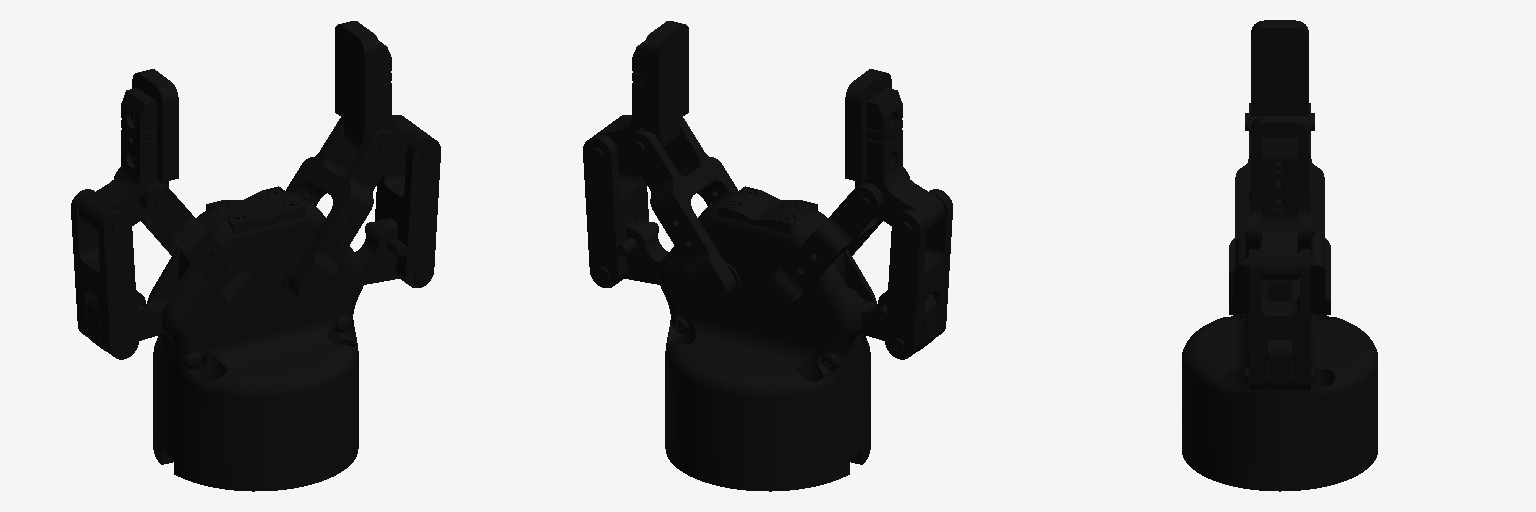
URDF robot description (robotiq_arg85_description):
<robot name="robotiq_arg85_description">
  <link name="robotiq_85_base_link">
    <inertial>
      <origin xyz="0.00021987 -2.3546E-10 0.030163" rpy="0 0 0" />
      <mass value="0.30915" />
      <inertia ixx="0.00028972" ixy="-5.7879E-10" ixz="-1.8543E-06" iyy="0.00030737" iyz="1.682E-12" izz="0.00019914" />
    </inertial>
    <visual name="robotiq_85_base_link_visual">
      <origin xyz="0 0 0" rpy="0 0 0" />
      <geometry>
        <mesh filename="package://robotiq_arg85_description/meshes/robotiq_85_base_link_fine.obj" />
      </geometry>
      <material name="">
        <color rgba="0.1 0.1 0.1 1" />
      </material>
    </visual>
    <collision name="robotiq_85_base_link_collision">
      <geometry>
	    <box size="0.086887 0.077000 0.102888"/> 
      </geometry>
		<origin xyz = "0.0 1.7427101428602043e-12 0.047443750551989516" rpy="0 0 0" />
    </collision>
  </link>
  <link name="left_outer_knuckle">
    <inertial>
      <origin xyz="0.0178331863169983 3.68915177224286E-11 0.0021442477325704" rpy="0 0 0" />
      <mass value="0.00684838849434396" />
      <inertia ixx="2.66832029033166E-07" ixy="1.66142314639824E-15" ixz="1.45945633322873E-07" iyy="1.3889233257419E-06" iyz="2.82951161241588E-15" izz="1.26603336914415E-06" />
    </inertial>
    <visual name="left_outer_knuckle_visual">
      <origin xyz="0 0 0" rpy="0 0 0" />
      <geometry>
        <mesh filename="package://robotiq_arg85_description/meshes/outer_knuckle_fine.obj" />
      </geometry>
      <material name="">
        <color rgba="0.1 0.1 0.1 1" />
      </material>
    </visual>
    <collision name="left_outer_knuckle_collision">
      <geometry>
	    <box size="0.047772 0.026000 0.024426"/> 
      </geometry>
		<origin xyz = "0.015403199009290235 5.312399825596614e-13 0.0033105993640952496" rpy="0 0 0" />
    </collision>
  </link>
  <joint name="finger_joint" type="fixed">
    <origin xyz="0.0306011444260539 0 0.0627920162695395" rpy="0 0 0" />
    <parent link="robotiq_85_base_link" />
    <child link="left_outer_knuckle" />
    <axis xyz="0 -1 0" />
    <!-- <limit lower="0" upper="0.725" velocity="2.0" effort="1000" /> -->
  </joint>
  <link name="left_outer_finger">
    <inertial>
      <origin xyz="0.00131451599174296 2.88942057994543E-15 0.0215404163180413" rpy="0 0 0" />
      <mass value="0.0273093985570947" />
      <inertia ixx="8.51629628283022E-06" ixy="2.58174336207405E-19" ixz="3.83829504344079E-07" iyy="6.9133328065108E-06" iyz="-7.58589926143789E-19" izz="2.25006832221981E-06" />
    </inertial>
    <visual name="left_outer_finger_visual">
      <origin xyz="0 0 0" rpy="0 0 0" />
      <geometry>
        <mesh filename="package://robotiq_arg85_description/meshes/outer_finger_fine.obj" />
      </geometry>
      <material name="">
        <color rgba="0.1 0.1 0.1 1" />
      </material>
    </visual>
    <collision name="left_outer_finger_collision">
      <geometry>
	    <box size="0.016872 0.029000 0.061409"/> 
      </geometry>
		<origin xyz = "0.0014472736505653163 1.0560007729365495e-12 0.023715879300101127" rpy="0 0 0" />
    </collision>
  </link>
  <joint name="left_outer_finger_joint" type="fixed">
    <origin xyz="0.0316910442266543 0 -0.00193396375724605" rpy="0 0 0" />
    <parent link="left_outer_knuckle" />
    <child link="left_outer_finger" />
    <axis xyz="0 -1 0" />
  </joint>
  <link name="left_inner_knuckle">
    <inertial>
      <origin xyz="0.017097546626628 -3.93808524389535E-10 0.0224918438201868" rpy="0 0 0" />
      <mass value="0.0110930853895903" />
      <inertia ixx="4.23392770691541E-06" ixy="5.748978936968E-15" ixz="1.78855677119788E-06" iyy="3.96548790524392E-06" iyz="1.05464666369669E-14" izz="3.24068002883007E-06" />
    </inertial>
    <visual name="left_inner_knuckle_visual">
      <origin xyz="0 0 0" rpy="0 0 0" />
      <geometry>
        <mesh filename="package://robotiq_arg85_description/meshes/inner_knuckle_fine.obj" />
      </geometry>
      <material name="">
        <color rgba="0.1 0.1 0.1 1" />
      </material>
    </visual>
    <!-- <collision name="left_inner_knuckle_collision">
      <geometry>
	    <box size="0.048571 0.041000 0.059401"/> 
      </geometry>
		<origin xyz = "0.01729265483893256 7.060983742146476e-13 0.02274850918763884" rpy="0 0 0" />
    </collision> -->
  </link>
  <joint name="left_inner_knuckle_joint" type="fixed">
    <origin xyz="0.0127000000001501 0 0.0693074999999639" rpy="0 0 0" />
    <parent link="robotiq_85_base_link" />
    <child link="left_inner_knuckle" />
    <axis xyz="0 -1 0" />
    <!-- <limit lower="0" upper="0.8757" velocity="2.0" effort="1000" /> -->
    <!-- <mimic joint="finger_joint" multiplier="1" offset="0" /> -->
  </joint>
  <link name="left_inner_finger">
    <inertial>
      <origin xyz="0.0060275613594574 -6.29183141465421E-15 0.00669925693133241" rpy="0 0 0" />
      <mass value="0.00724255346165745" />
      <inertia ixx="1.47824274053603E-06" ixy="-3.94884463570303E-19" ixz="-3.45268847648622E-07" iyy="1.70064480838395E-06" iyz="3.5059838910097E-19" izz="4.77151336838364E-07" />
    </inertial>
    <visual name="left_inner_finger_visual">
      <origin xyz="0 0 0" rpy="0 0 0" />
      <geometry>
        <mesh filename="package://robotiq_arg85_description/meshes/inner_finger_fine.obj" />
      </geometry>
      <material name="">
        <color rgba="0.1 0.1 0.1 1" />
      </material>
    </visual>
    <collision name="left_inner_finger_collision">
      <geometry>
	    <box size="0.033703 0.024000 0.058515"/> 
      </geometry>
		<origin xyz = "0.008049757219381438 -2.3713496444255355e-13 0.01574262650753895" rpy="0 0 0" />
    </collision>
  </link>
  <joint name="left_inner_finger_joint" type="fixed">
    <origin xyz="0.034585310861294 0 0.0454970193817975" rpy="0 0 0" />
    <parent link="left_inner_knuckle" />
    <child link="left_inner_finger" />
    <axis xyz="0 -1 0" />
    <!-- <limit lower="0" upper="0.8757" velocity="2.0" effort="1000" /> -->
    <!-- <mimic joint="finger_joint" multiplier="-1" offset="0" /> -->
  </joint>
  <link name="right_inner_knuckle">
    <inertial>
      <origin xyz="0.0168606186773776 3.93808471820465E-10 0.0226699950793434" rpy="0 0 0" />
      <mass value="0.0110930853895903" />
      <inertia ixx="4.27134775939882E-06" ixy="-8.53568456728898E-15" ixz="1.77774229944246E-06" iyy="3.96548790524392E-06" iyz="-8.45108024914164E-15" izz="3.20325997634666E-06" />
    </inertial>
    <visual name="right_inner_knuckle_visual">
      <origin xyz="0 0 0" rpy="0 0 0" />
      <geometry>
        <mesh filename="package://robotiq_arg85_description/meshes/inner_knuckle_fine.obj" />
      </geometry>
      <material name="">
        <color rgba="0.1 0.1 0.1 1" />
      </material>
    </visual>
    <!-- <collision name="right_inner_knuckle_collision">
      <geometry>
	    <box size="0.048571 0.041000 0.059401"/> 
      </geometry>
		<origin xyz = "0.01729265483893256 7.060983742146476e-13 0.02274850918763884" rpy="0 0 0" />
    </collision> -->
  </link>
  <joint name="right_inner_knuckle_joint" type="fixed">
    <origin xyz="-0.0126999999998499 0 0.0693075000000361" rpy="0 0 3.14159265358979" />
    <parent link="robotiq_85_base_link" />
    <child link="right_inner_knuckle" />
    <axis xyz="0 1 0" />
    <!-- <limit lower="0" upper="0.8757" velocity="2.0" effort="1000" /> -->
    <!-- <mimic joint="finger_joint" multiplier="-1" offset="0" /> -->
  </joint>
  <link name="right_inner_finger">
    <inertial>
      <origin xyz="0.00602756228812038 -6.47284509480176E-15 0.00669925609578108" rpy="0 0 0" />
      <mass value="0.00724255346165744" />
      <inertia ixx="1.47824283625957E-06" ixy="-3.95952064019123E-19" ixz="-3.45268708875543E-07" iyy="1.70064480838394E-06" iyz="3.55286507960029E-19" izz="4.77151241114822E-07" />
    </inertial>
    <visual name="right_inner_finger_visual">
      <origin xyz="0 0 0" rpy="0 0 0" />
      <geometry>
        <mesh filename="package://robotiq_arg85_description/meshes/inner_finger_fine.obj" />
      </geometry>
      <material name="">
        <color rgba="0.1 0.1 0.1 1" />
      </material>
    </visual>
    <collision name="right_inner_finger_collision">
      <geometry>
	    <box size="0.033703 0.024000 0.058515"/> 
      </geometry>
		<origin xyz = "0.008049757219381438 -2.3713496444255355e-13 0.01574262650753895" rpy="0 0 0" />
    </collision>
  </link>
  <joint name="right_inner_finger_joint" type="fixed">
    <origin xyz="0.0341060475457406 0 0.0458573878541688" rpy="0 0 0" />
    <parent link="right_inner_knuckle" />
    <child link="right_inner_finger" />
    <axis xyz="0 1 0" />
    <limit lower="0" upper="0.8757" velocity="2.0" effort="1000" />
    <!-- <mimic joint="finger_joint" multiplier="1" offset="0" /> -->
  </joint>
  <link name="right_outer_knuckle">
    <inertial>
      <origin xyz="0.0178097074051638 3.60493211424024E-11 0.00233123458346721" rpy="0 0 0" />
      <mass value="0.00684838849401352" />
      <inertia ixx="2.70004361573169E-07" ixy="1.59579467624491E-15" ixz="1.56396493788199E-07" iyy="1.38892332558312E-06" iyz="2.82357800318817E-15" izz="1.26286103637978E-06" />
    </inertial>
    <visual name="right_outer_knuckle_visual">
      <origin xyz="0 0 0" rpy="0 0 0" />
      <geometry>
        <mesh filename="package://robotiq_arg85_description/meshes/outer_knuckle_fine.obj" />
      </geometry>
      <material name="">
        <color rgba="0.1 0.1 0.1 1" />
      </material>
    </visual>
    <collision name="right_outer_knuckle_collision">
      <geometry>
	    <box size="0.047772 0.026000 0.024426"/> 
      </geometry>
		<origin xyz = "0.015403199009290235 5.312399825596614e-13 0.0033105993640952496" rpy="0 0 0" />
    </collision>
  </link>
  <joint name="right_outer_knuckle_joint" type="fixed">
    <origin xyz="-0.0306011444258893 0 0.0627920162695395" rpy="0 0 3.14159265358979" />
    <parent link="robotiq_85_base_link" />
    <child link="right_outer_knuckle" />
    <axis xyz="0 1 0" />
    <!-- <limit lower="0" upper="0.8757" velocity="2.0" effort="1000" /> -->
    <!-- <mimic joint="finger_joint" multiplier="-1" offset="0" /> -->
  </joint>
  <link name="right_outer_finger">
    <inertial>
      <origin xyz="0.00108844269639009 -2.611488350845E-15 0.0215530225245502" rpy="0 0 0" />
      <mass value="0.0273093985570947" />
      <inertia ixx="8.52366028592721E-06" ixy="3.41683380899422E-19" ixz="3.18003675694284E-07" iyy="6.91333280651081E-06" iyz="7.37726682706417E-19" izz="2.24270431912283E-06" />
    </inertial>
    <visual name="right_outer_finger_visual">
      <origin xyz="0 0 0" rpy="0 0 0" />
      <geometry>
        <mesh filename="package://robotiq_arg85_description/meshes/outer_finger_fine.obj" />
      </geometry>
      <material name="">
        <color rgba="0.1 0.1 0.1 1" />
      </material>
    </visual>
    <collision name="right_outer_finger_collision">
      <geometry>
	    <box size="0.016872 0.029000 0.061409"/> 
      </geometry>
		<origin xyz = "0.0014472736505653163 1.0560007729365495e-12 0.023715879300101127" rpy="0 0 0" />
    </collision>
  </link>
  <joint name="right_outer_finger_joint" type="fixed">
    <origin xyz="0.0317095909367246 0 -0.0016013564954687" rpy="0 0 0" />
    <parent link="right_outer_knuckle" />
    <child link="right_outer_finger" />
    <axis xyz="0 1 0" />
  </joint>
</robot>

--- Facts derived from the render (not from the file) ---
3 views of the same robot in one strip: view 1: azimuth 30°, elevation 25°; view 2: azimuth 150°, elevation 25°; view 3: azimuth 270°, elevation 25° (orthographic).
Robot: robotiq_arg85_description — 9 links, 8 joints (8 fixed); root link robotiq_85_base_link; default pose: all joints at 0.
Links seen in each view (by area): view 1: robotiq_85_base_link, left_inner_knuckle, right_inner_finger, right_outer_finger, left_outer_finger, left_inner_finger, right_inner_knuckle, left_outer_knuckle, right_outer_knuckle; view 2: robotiq_85_base_link, left_inner_knuckle, right_inner_finger, right_outer_finger, left_outer_finger, left_inner_finger, right_inner_knuckle, left_outer_knuckle, right_outer_knuckle; view 3: robotiq_85_base_link, left_inner_finger, left_outer_finger, right_inner_finger, left_inner_knuckle, right_inner_knuckle, left_outer_knuckle.
Link boxes in pixels (box(x1,y1,x2,y2)): robotiq_85_base_link: box(147, 186, 364, 491); left_inner_knuckle: box(286, 117, 398, 303); right_inner_finger: box(79, 69, 178, 232); right_outer_finger: box(71, 189, 138, 359); left_outer_finger: box(375, 115, 440, 287); left_inner_finger: box(335, 21, 429, 162); right_inner_knuckle: box(114, 168, 266, 317); left_outer_knuckle: box(355, 218, 406, 284); right_outer_knuckle: box(87, 287, 175, 351); robotiq_85_base_link: box(659, 186, 876, 491); left_inner_knuckle: box(625, 117, 737, 303); right_inner_finger: box(845, 69, 944, 232); right_outer_finger: box(885, 189, 952, 359); left_outer_finger: box(583, 115, 648, 287); left_inner_finger: box(594, 21, 688, 162); right_inner_knuckle: box(757, 168, 909, 317); left_outer_knuckle: box(617, 218, 668, 284); right_outer_knuckle: box(848, 287, 936, 351); robotiq_85_base_link: box(1182, 212, 1377, 491); left_inner_finger: box(1251, 116, 1308, 279); left_outer_finger: box(1245, 249, 1314, 389); right_inner_finger: box(1251, 20, 1308, 115); left_inner_knuckle: box(1229, 214, 1330, 314); right_inner_knuckle: box(1229, 109, 1330, 273); left_outer_knuckle: box(1267, 340, 1292, 389).
Size in the robot's own frame: 0.1424 by 0.075 by 0.1622 metres.
Meshes: 5 distinct files referenced, 9 mesh visuals loaded (5 OBJ).